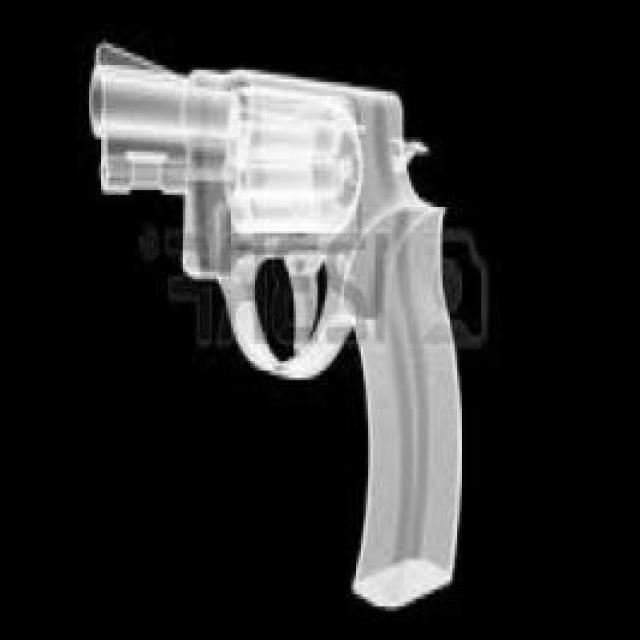pistol: (89, 27, 474, 611)
